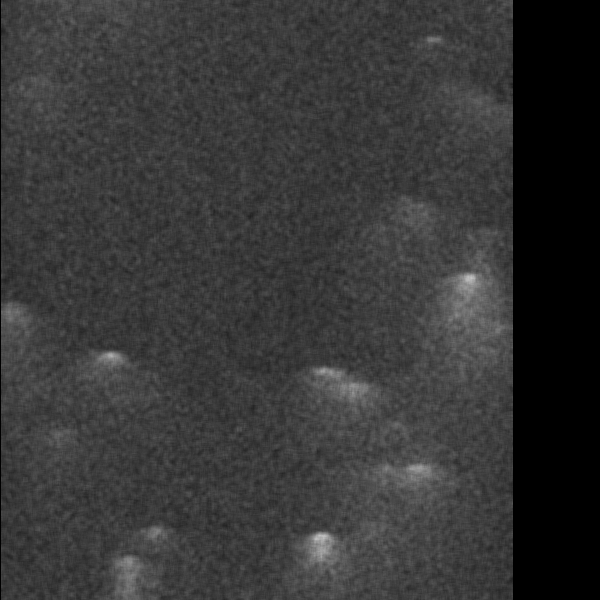spark: (18, 396, 52, 428)
